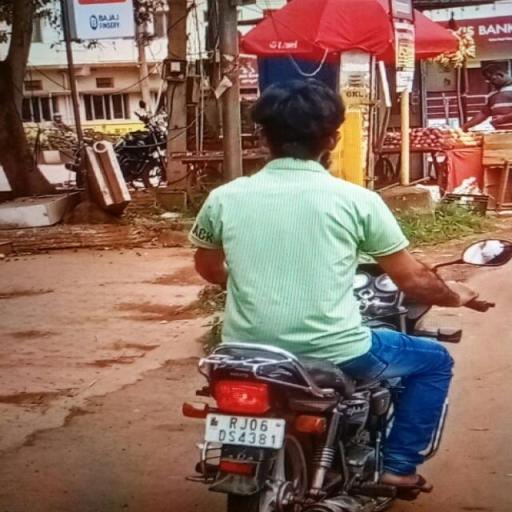bike: (174, 77, 512, 512)
numberplate: (201, 411, 290, 453)
withouthelmet: (258, 84, 342, 158)
